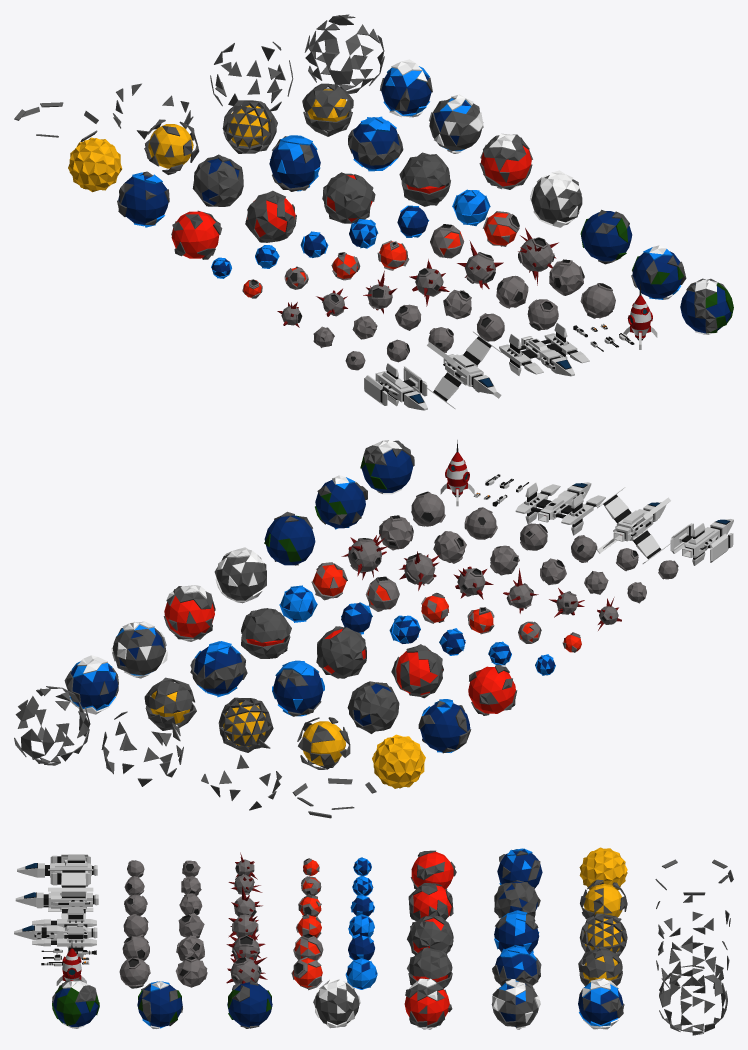
File: LowPolySpace.FBX
3 views of the same model, one above another, from view 1: azimuth 30°, elevation 25°; view 2: azimuth 150°, elevation 25°; view 3: azimuth 270°, elevation 25° (orthographic). The views are drawn at different scales.
Parts seen in each view (by area): view 1: AsteroidBelt_4, Fighter_3, Planet_1_6, Planet_1_5, Planet_1_7, Planet_1_1_Earth, Planet_3_3, Fighter_2, Planet_3_4, Planet_1_4, Planet_4_1, Planet_1_2 (+29 smaller); view 2: AsteroidBelt_4, Fighter_3, Planet_1_6, Planet_1_5, Planet_1_7, Planet_3_4, Planet_1_1_Earth, Fighter_2, Planet_3_3, Planet_1_4, Planet_4_1, Planet_3_1 (+32 smaller); view 3: Fighter_3, Fighter_2, AsteroidBelt_4, Planet_1_6, Planet_1_7, Planet_1_5, Planet_1_1_Earth, Planet_1_4, Planet_1_2, Planet_1_3, Planet_3_4, Planet_3_3 (+40 smaller).
Boxes of the visible parts, bbox=[...] form: AsteroidBelt_4: bbox=[304, 14, 384, 93]; Fighter_3: bbox=[499, 322, 589, 376]; Planet_1_6: bbox=[429, 94, 483, 153]; Planet_1_5: bbox=[479, 133, 532, 189]; Planet_1_7: bbox=[380, 59, 432, 117]; Planet_1_1_Earth: bbox=[680, 278, 733, 334]; Planet_3_3: bbox=[269, 135, 320, 191]; Fighter_2: bbox=[427, 331, 501, 409]; Planet_3_4: bbox=[348, 116, 403, 171]; Planet_1_4: bbox=[530, 170, 582, 227]; Planet_4_1: bbox=[68, 137, 122, 192]; Planet_1_2: bbox=[631, 245, 686, 299]; AsteroidBelt_4: bbox=[14, 686, 90, 765]; Fighter_3: bbox=[515, 482, 605, 535]; Planet_1_6: bbox=[111, 621, 167, 678]; Planet_1_5: bbox=[163, 585, 215, 641]; Planet_1_7: bbox=[64, 655, 118, 714]; Planet_3_4: bbox=[190, 641, 247, 697]; Planet_1_1_Earth: bbox=[360, 440, 414, 494]; Fighter_2: bbox=[597, 487, 670, 563]; Planet_3_3: bbox=[272, 660, 324, 716]; Planet_1_4: bbox=[214, 547, 266, 603]; Planet_4_1: bbox=[372, 734, 425, 788]; Planet_3_1: bbox=[418, 699, 471, 753]; Fighter_3: bbox=[14, 907, 97, 958]; Fighter_2: bbox=[15, 869, 98, 927]; AsteroidBelt_4: bbox=[659, 965, 727, 1035]; Planet_1_6: bbox=[491, 979, 540, 1029]; Planet_1_7: bbox=[578, 978, 624, 1029]; Planet_1_5: bbox=[404, 978, 452, 1029]; Planet_1_1_Earth: bbox=[52, 979, 99, 1028]; Planet_1_4: bbox=[313, 979, 360, 1028]; Planet_1_2: bbox=[137, 981, 182, 1028]; Planet_1_3: bbox=[227, 981, 272, 1028]; Planet_3_4: bbox=[492, 945, 541, 985]; Planet_3_3: bbox=[494, 910, 539, 952].
Size of the model in its own units: 289 by 571 by 62.2.
